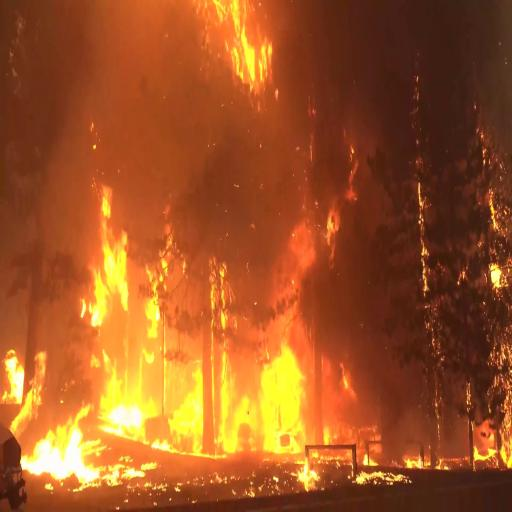fire: (218, 339, 306, 448), (201, 0, 279, 89), (97, 343, 156, 437), (33, 395, 94, 483), (98, 197, 135, 316), (472, 376, 512, 475), (174, 366, 210, 450)
